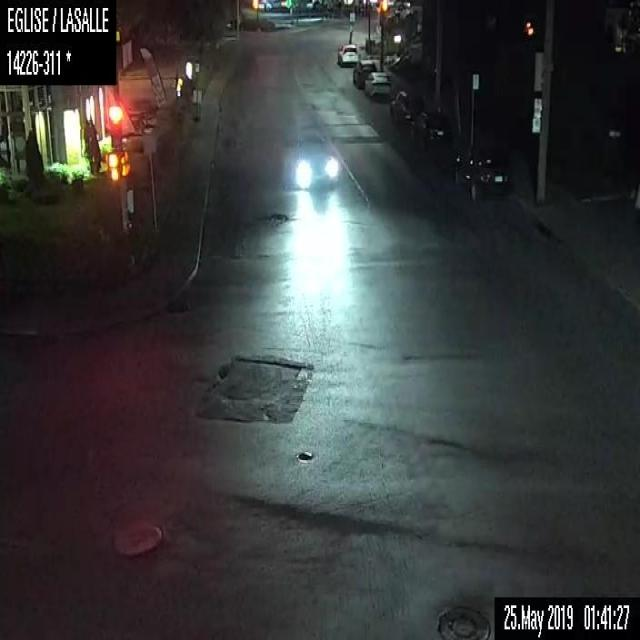vehicle: (449, 147, 512, 201), (291, 139, 338, 189), (409, 106, 451, 153), (388, 86, 421, 126), (363, 70, 392, 101), (352, 56, 375, 88), (337, 42, 359, 64)
